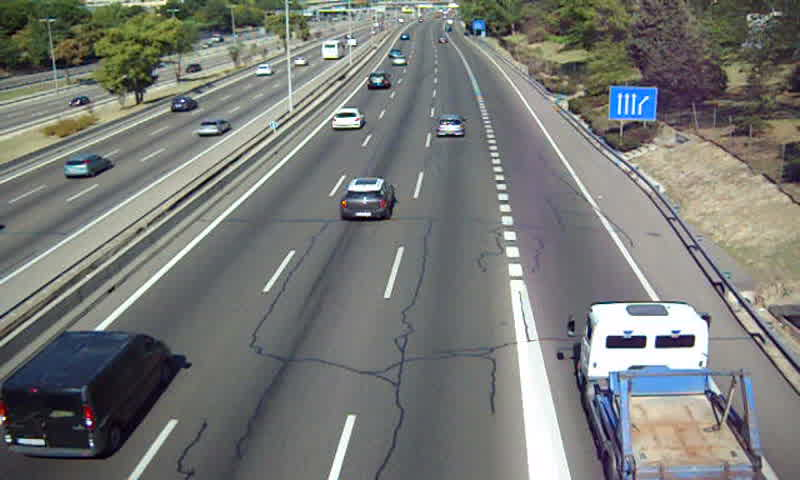car: (339, 177, 395, 222), (330, 108, 364, 130), (435, 113, 464, 137), (365, 73, 390, 92), (390, 55, 408, 69)
small-truck: (581, 303, 761, 480)
van: (1, 332, 172, 458)
